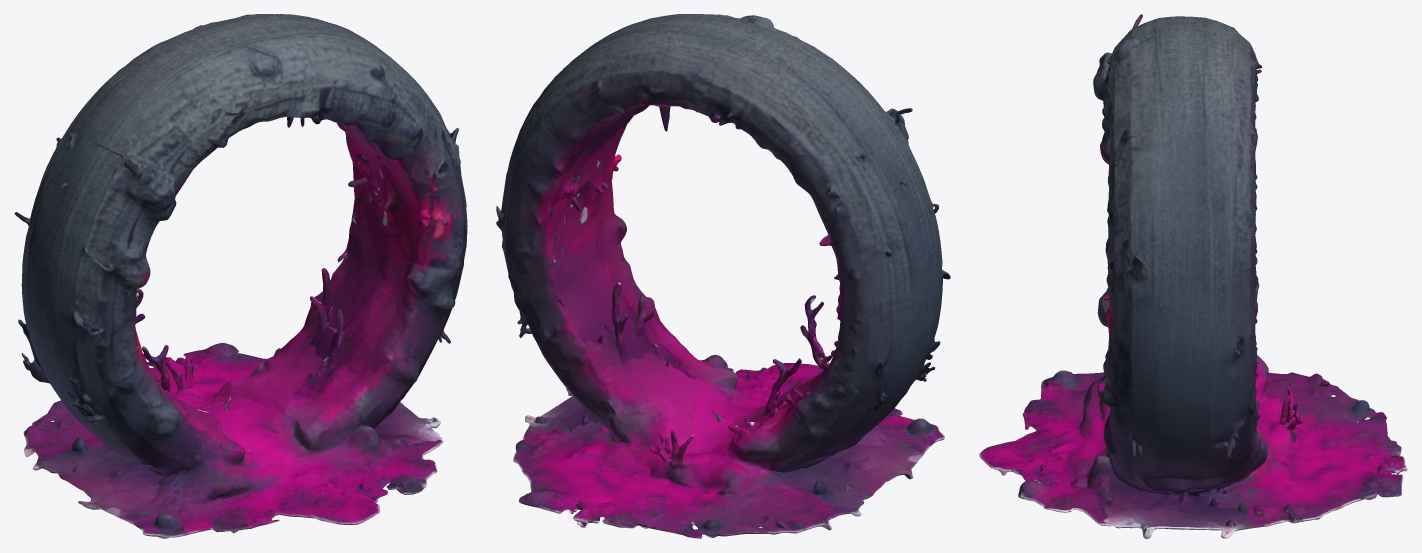
File: broken-ring-generated-2026-05-17T19-10-33-073Z.high.glb
3 views of the same model, side by side, from view 1: azimuth 30°, elevation 25°; view 2: azimuth 150°, elevation 25°; view 3: azimuth 270°, elevation 25° (orthographic). The views are drawn at different scales.
Parts seen in each view (by area): view 1: temp_mesh.ply; view 2: temp_mesh.ply; view 3: temp_mesh.ply.
Part boxes in pixels (x1=…): temp_mesh.ply: x1=14, y1=14, x2=467, y2=538; temp_mesh.ply: x1=496, y1=14, x2=950, y2=538; temp_mesh.ply: x1=979, y1=14, x2=1407, y2=538.
Size of the model in its own units: 1.97 by 1.97 by 1.82.
Materials: 1 (1 with a texture image).
